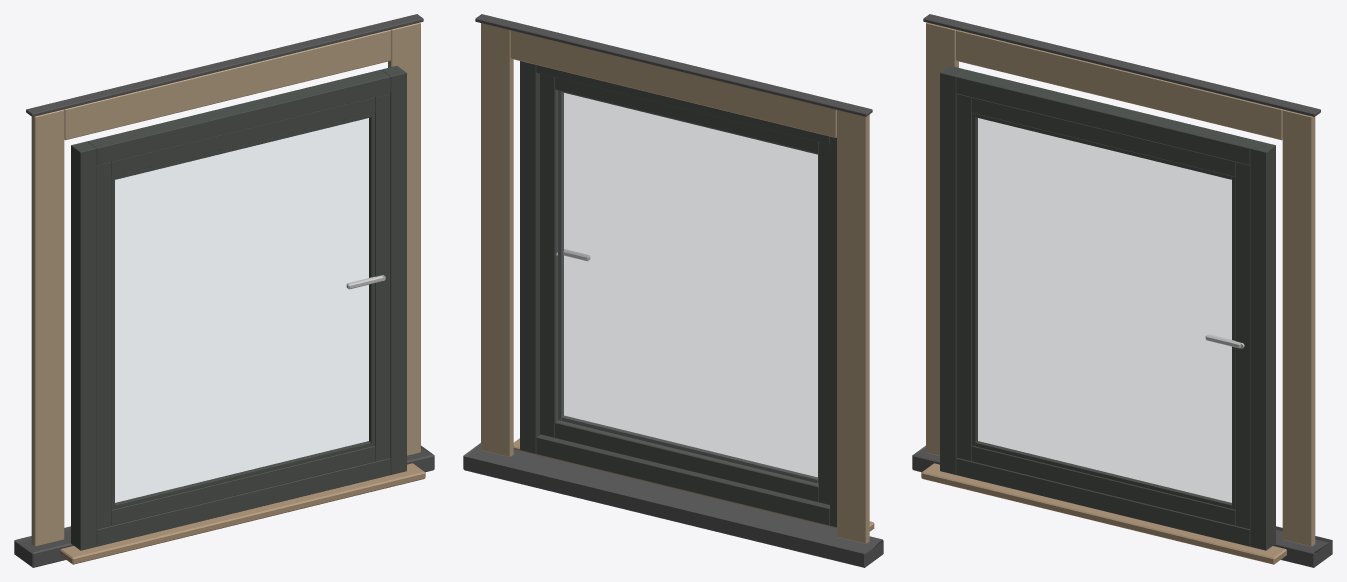
Rendered from window-casement.glb.
3 renders of one model, left to right at view 1: azimuth 30°, elevation 25°; view 2: azimuth 150°, elevation 25°; view 3: azimuth 330°, elevation 25°, orthographic.
Visible parts, largest first — view 1: glass, surround, frame, surround.002, frame.003, frame.001, surround.001, frame.004, frame.005, frame.002, sill, frame.006 (+7 smaller); view 2: glass, surround, surround.001, flashing, surround.002, frame.001, frame.005, frame.002, frame.006, frame.004, flashing.001, frame.007 (+5 smaller); view 3: glass, surround.001, frame.001, surround.002, frame.003, frame, surround, frame.004, frame.005, frame.002, sill, frame.006 (+7 smaller).
Boxes of the visible parts, x1=… form: glass: x1=115, y1=118, x2=368, y2=502; surround: x1=31, y1=109, x2=64, y2=546; frame: x1=71, y1=141, x2=96, y2=550; surround.002: x1=64, y1=30, x2=390, y2=140; frame.003: x1=87, y1=69, x2=390, y2=164; frame.001: x1=381, y1=66, x2=406, y2=474; surround.001: x1=388, y1=22, x2=420, y2=455; frame.004: x1=96, y1=162, x2=111, y2=529; frame.005: x1=375, y1=94, x2=390, y2=461; frame.002: x1=96, y1=458, x2=390, y2=546; sill: x1=60, y1=463, x2=425, y2=564; frame.006: x1=111, y1=446, x2=375, y2=525; glass: x1=556, y1=90, x2=818, y2=485; surround: x1=837, y1=110, x2=869, y2=543; surround.001: x1=481, y1=23, x2=513, y2=457; flashing: x1=463, y1=443, x2=883, y2=567; surround.002: x1=510, y1=30, x2=836, y2=137; frame.001: x1=520, y1=61, x2=540, y2=453; frame.005: x1=540, y1=74, x2=557, y2=437; frame.002: x1=536, y1=434, x2=829, y2=525; frame.006: x1=555, y1=420, x2=818, y2=501; frame.004: x1=818, y1=142, x2=829, y2=504; flashing.001: x1=475, y1=14, x2=872, y2=116; frame.007: x1=555, y1=77, x2=818, y2=153; glass: x1=978, y1=118, x2=1231, y2=502; surround.001: x1=1282, y1=109, x2=1315, y2=546; frame.001: x1=1250, y1=141, x2=1275, y2=550; surround.002: x1=956, y1=30, x2=1282, y2=140; frame.003: x1=956, y1=69, x2=1259, y2=164; frame: x1=940, y1=66, x2=965, y2=474; surround: x1=926, y1=22, x2=958, y2=455; frame.004: x1=956, y1=94, x2=971, y2=461; frame.005: x1=1235, y1=162, x2=1250, y2=529; frame.002: x1=956, y1=458, x2=1250, y2=546; sill: x1=921, y1=463, x2=1286, y2=564; frame.006: x1=971, y1=446, x2=1235, y2=525.
Size of the model in its own units: 1.48 by 1.58 by 0.219.
